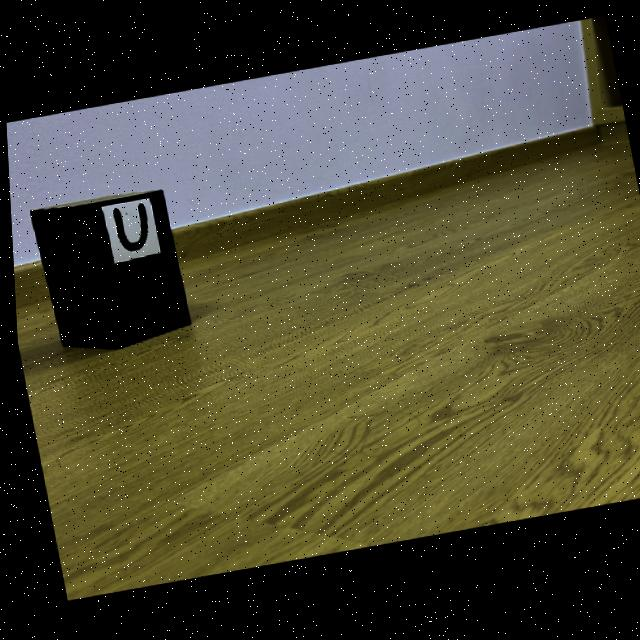U: (111, 205, 146, 253)
